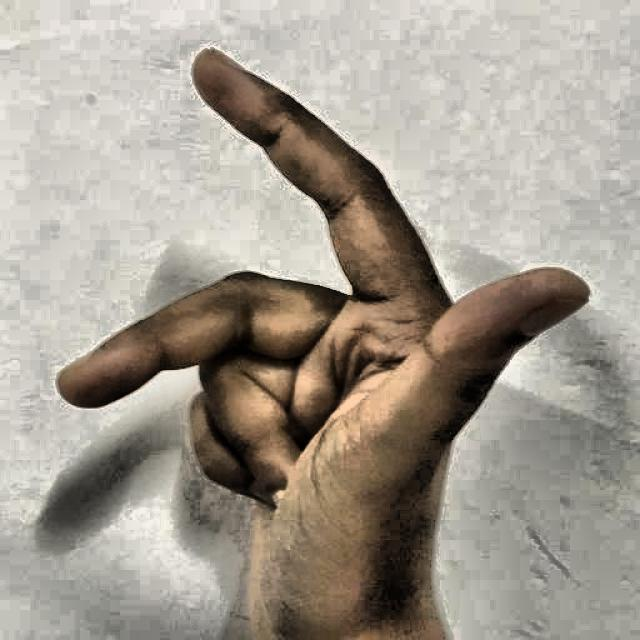Da: (35, 29, 604, 614)
